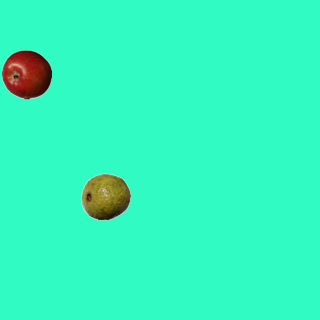Apple Braeburn: (1, 49, 51, 99)
Guava: (80, 171, 130, 221)
